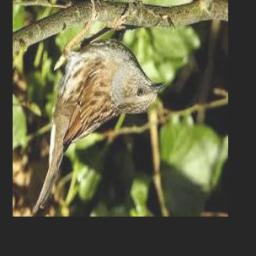Sparrow: (34, 0, 166, 211)
